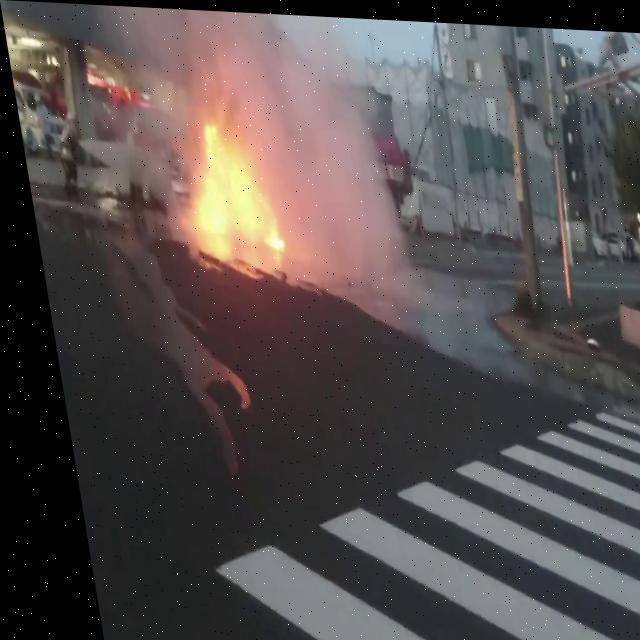Fire: (170, 111, 280, 263)
